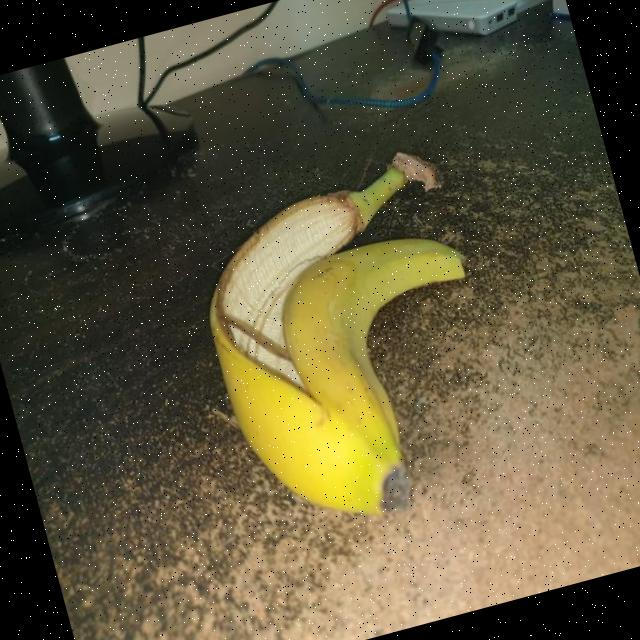banana-peel: (174, 141, 524, 547)
